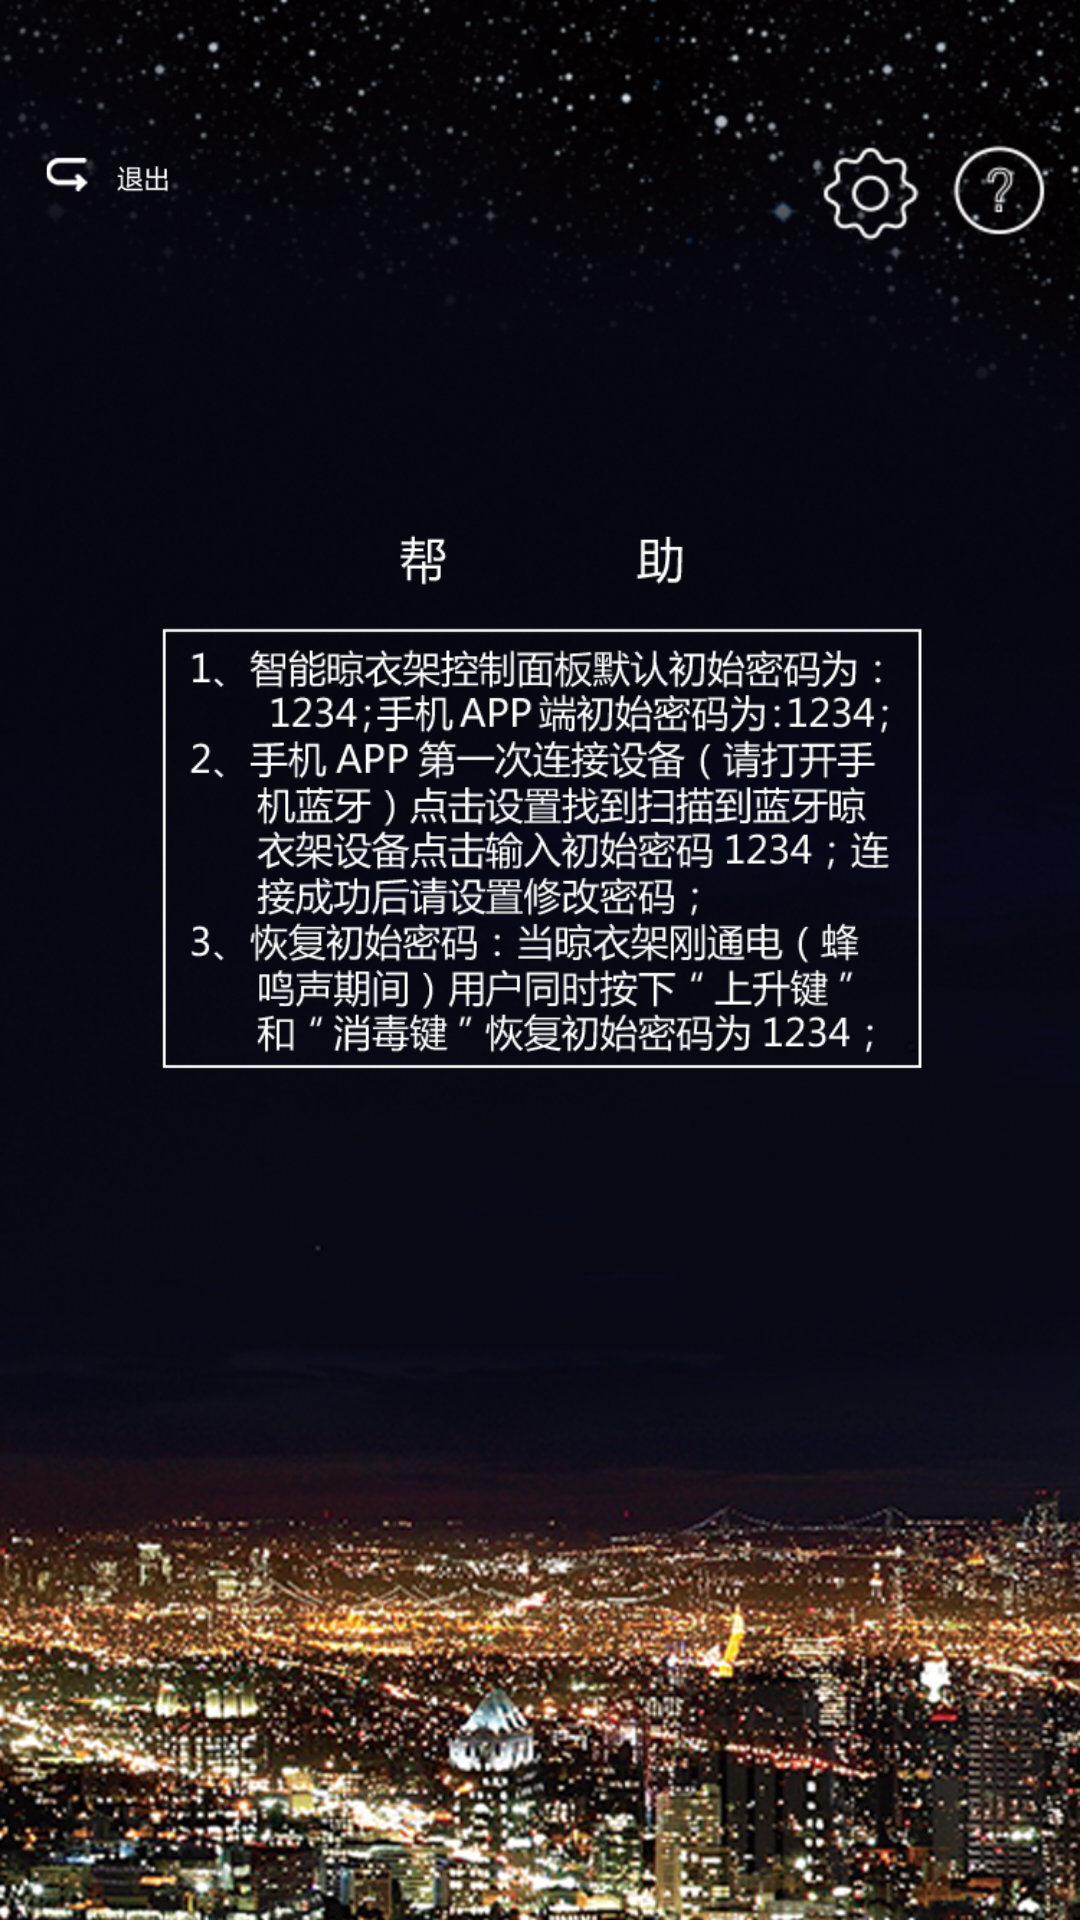

Screen size 1080px x 1920px. Icon name, then its center in pixels as point (x, y):
help: point (997, 186)
setter: point (870, 195)
